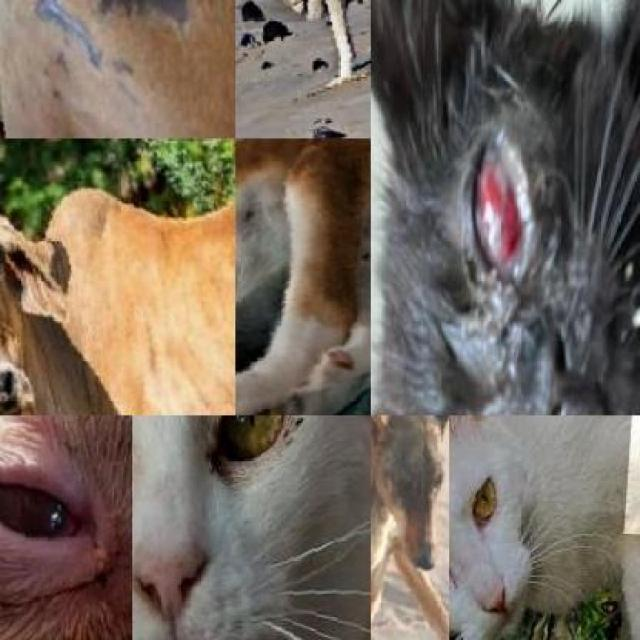cat: (371, 0, 640, 415), (132, 415, 371, 640), (449, 415, 640, 640), (0, 415, 132, 639)
cow: (0, 138, 235, 415)
dog: (235, 138, 371, 410), (0, 0, 235, 138), (371, 415, 449, 640)
injured: (411, 138, 571, 344), (235, 0, 334, 29)
